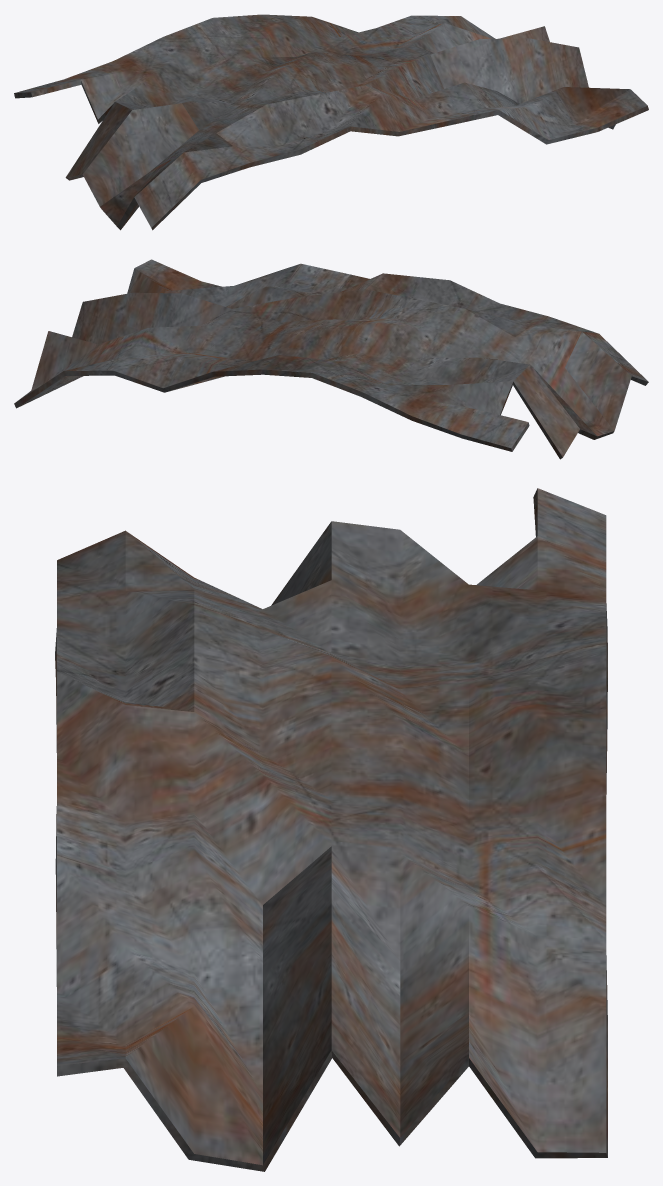
The model's file is sheet_3.glb.
The picture shows the model from 3 angles, top to bottom: view 1: azimuth 30°, elevation 25°; view 2: azimuth 150°, elevation 25°; view 3: azimuth 270°, elevation 25°; orthographic projection. The views are drawn at different scales.
Parts seen in each view (by area): view 1: sheet_3; view 2: sheet_3; view 3: sheet_3.
Part boxes in pixels (x1,y1,x2,y2): sheet_3: [14, 14, 648, 230]; sheet_3: [14, 259, 648, 459]; sheet_3: [55, 488, 607, 1171].
Size of the model in its own units: 0.4274 by 0.094 by 0.2057.
Materials: 1 (1 with a texture image).
